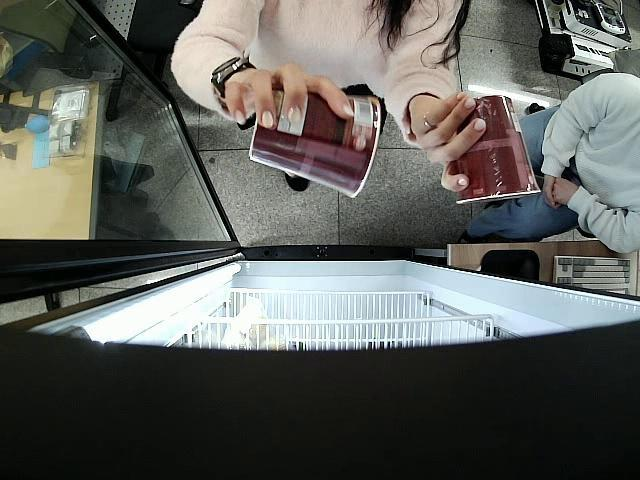06_nuguri_S: (248, 88, 381, 199), (458, 93, 542, 204)
